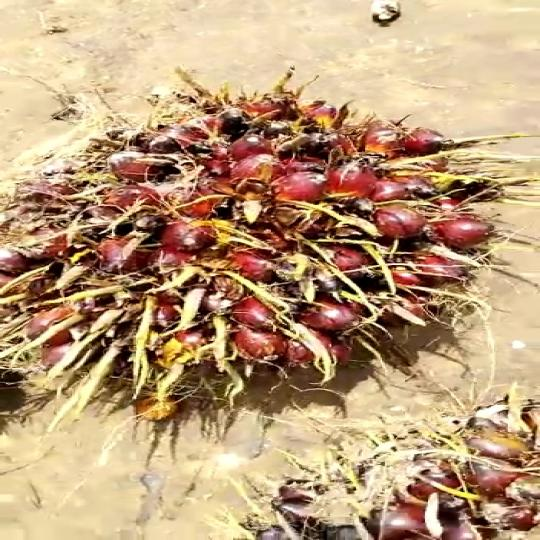masak: (1, 78, 514, 394)
